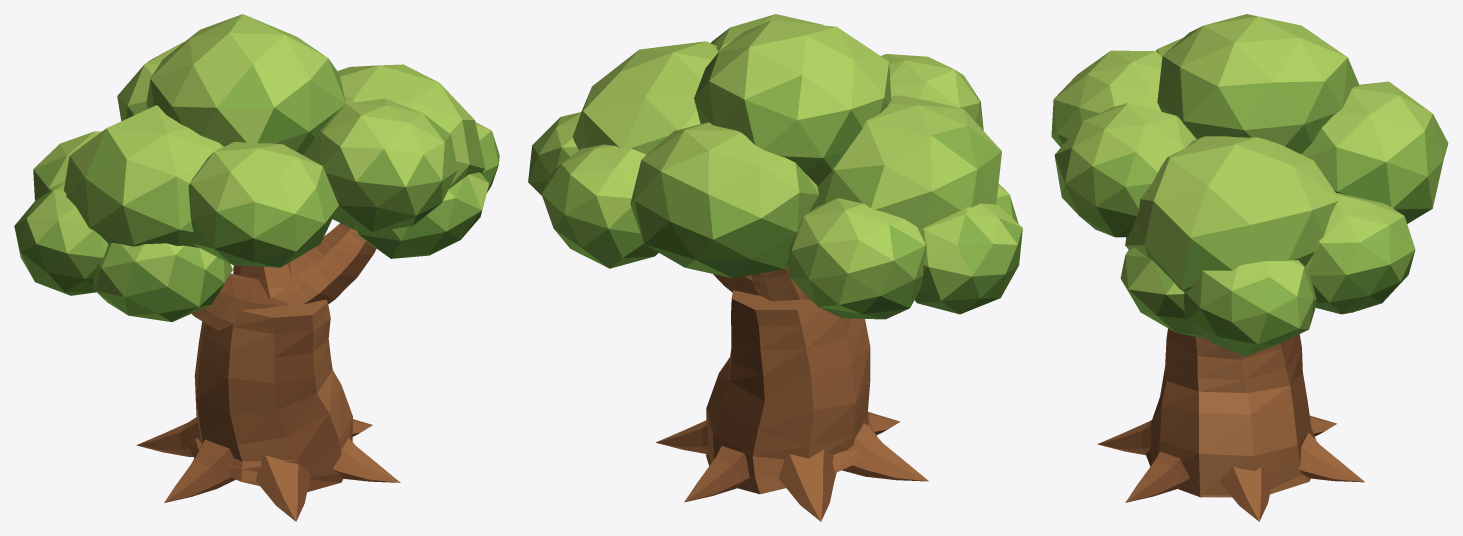
The model's file is FMS_Tree_Oak_L.fbx.
The picture shows the model from 3 angles, left to right: view 1: azimuth 30°, elevation 25°; view 2: azimuth 150°, elevation 25°; view 3: azimuth 270°, elevation 25°; orthographic projection. The views are drawn at different scales.
Visible parts, largest first — view 1: FMS_Tree_Oak_L; view 2: FMS_Tree_Oak_L; view 3: FMS_Tree_Oak_L.
Boxes of the visible parts, x1,y1,x2,y2 form: FMS_Tree_Oak_L: (14,14,499,521); FMS_Tree_Oak_L: (528,14,1022,521); FMS_Tree_Oak_L: (1051,14,1448,521).
Size of the model in its own units: 7.45 by 6.63 by 5.49.
